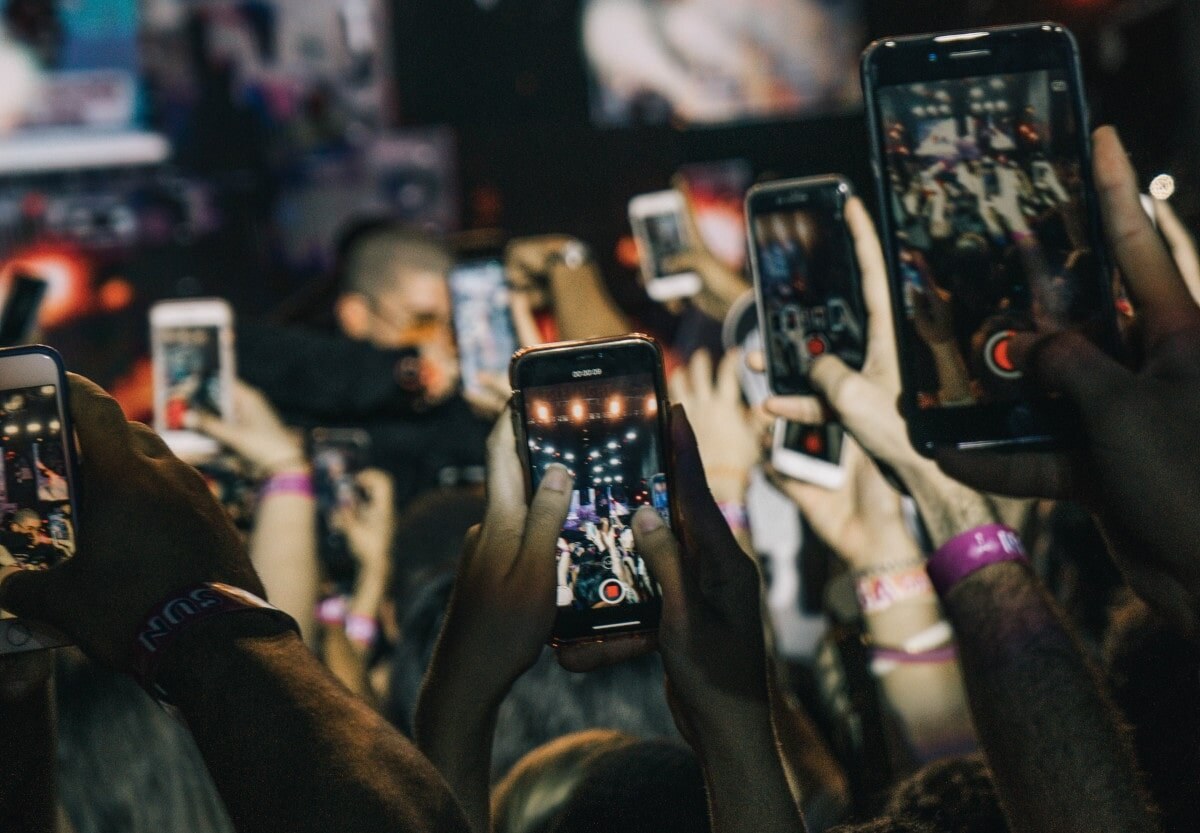phones: (847, 21, 1164, 467), (504, 334, 711, 656)
